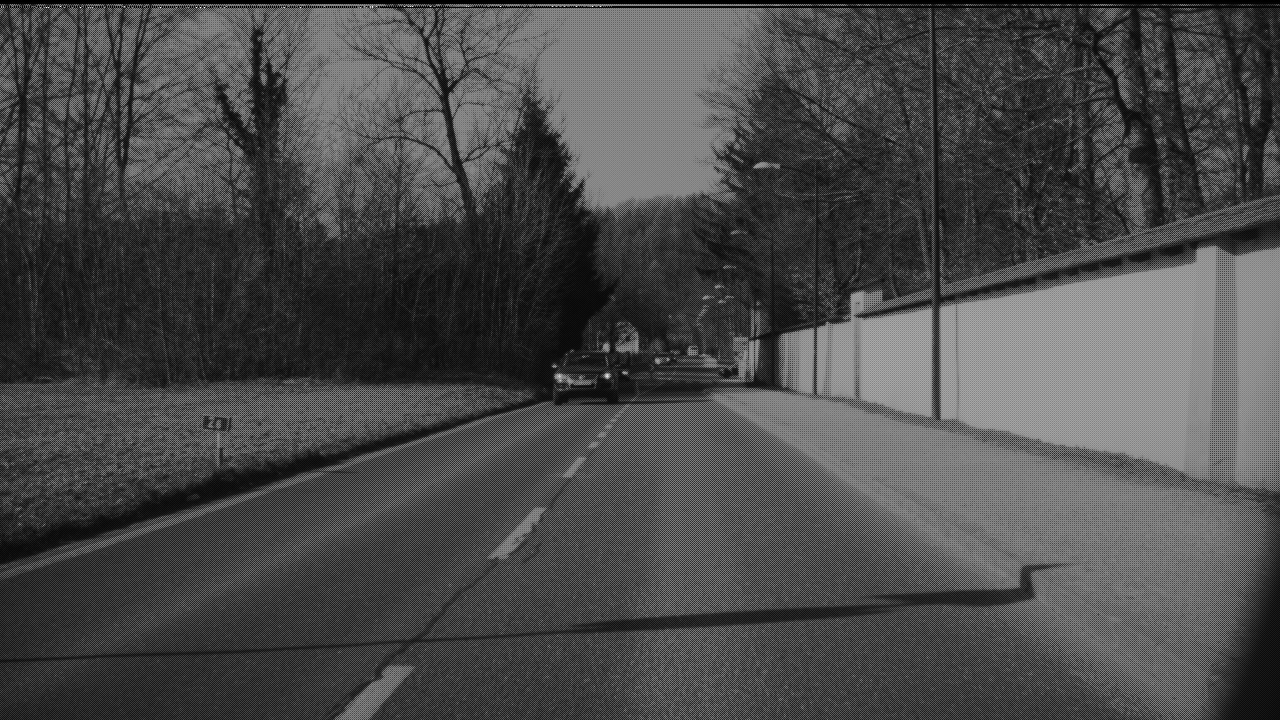pole: (929, 1, 940, 411), (810, 171, 816, 385), (770, 233, 774, 377)
